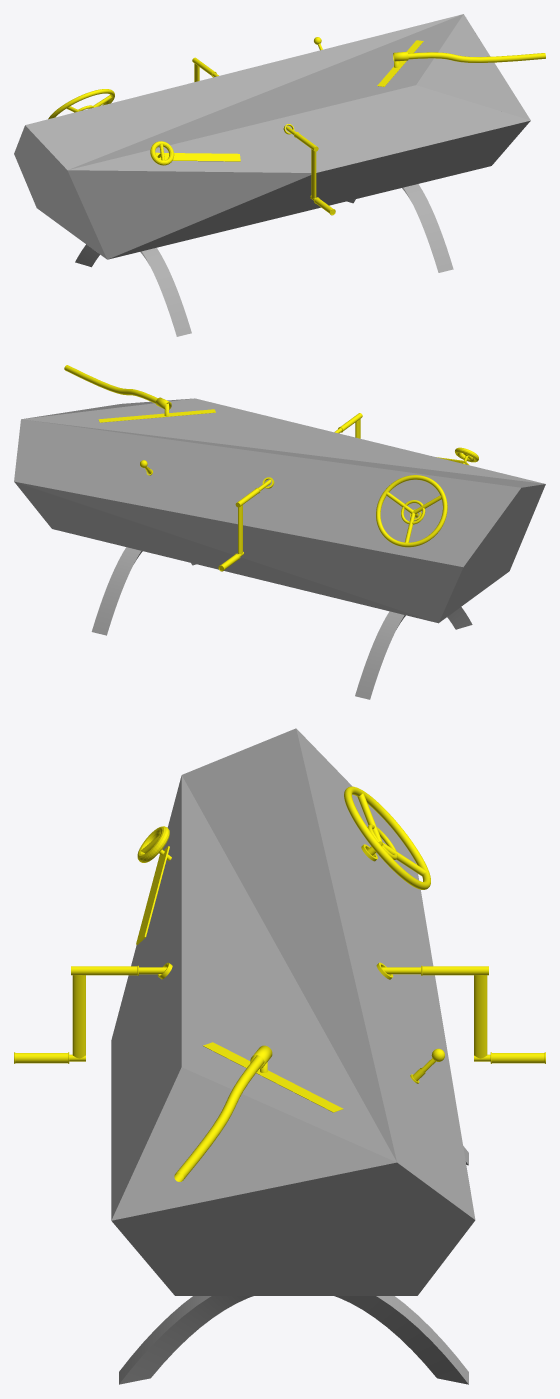
The model's file is maquette0.glb.
The picture shows the model from 3 angles, top to bottom: view 1: azimuth 30°, elevation 25°; view 2: azimuth 150°, elevation 25°; view 3: azimuth 270°, elevation 25°; orthographic projection. The views are drawn at different scales.
Visible parts, largest first — view 1: cuve, pieds, Inst4, Cylinder.014, Inst Mod; view 2: cuve, pieds, Inst4, Inst Mod, Cylinder.014; view 3: cuve, pieds, Inst Mod, Inst4, Cylinder.014.
Part boxes in pixels (x1,y1,x2,y2): cuve: (14,14,530,259); pieds: (75,184,453,336); Inst4: (48,40,423,161); Cylinder.014: (393,51,545,67); Inst Mod: (192,57,335,215); cuve: (14,398,545,623); pieds: (91,547,472,699); Inst4: (98,409,468,547); Inst Mod: (146,413,421,571); Cylinder.014: (64,365,171,416); cuve: (111,728,475,1295); pieds: (119,1145,468,1384); Inst Mod: (14,844,545,1083); Inst4: (136,786,430,1112); Cylinder.014: (174,1045,272,1181).
Bounding box in the file's own units: 2.79 × 1.1 × 1.54.
